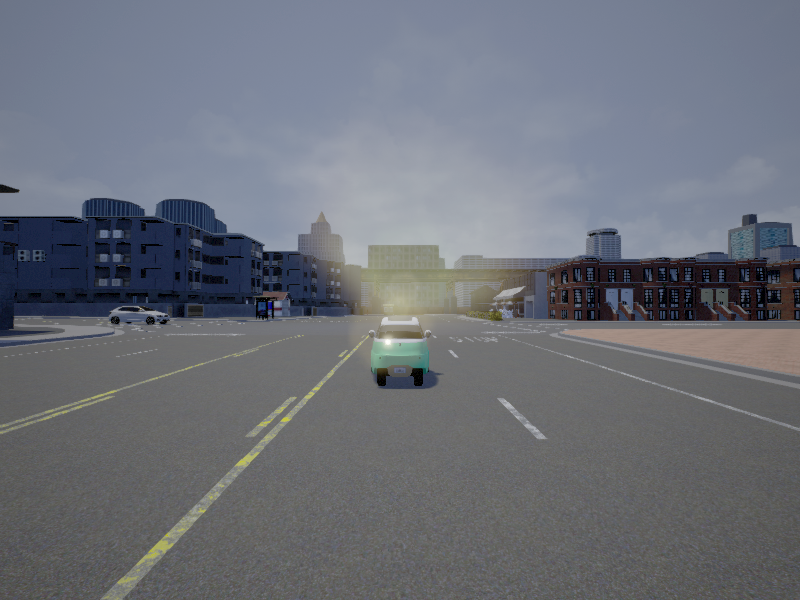Benign: (369, 316, 432, 389), (109, 306, 169, 328)
